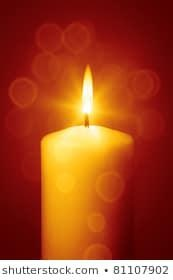fire: (79, 63, 94, 117)
